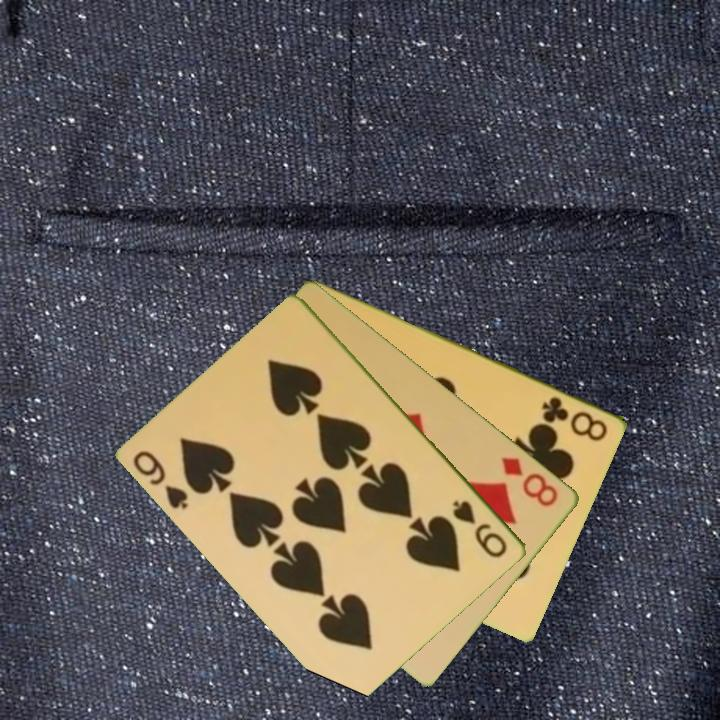8c: (538, 392, 611, 444)
8d: (498, 453, 562, 510)
9s: (130, 446, 192, 513), (449, 496, 511, 561)
